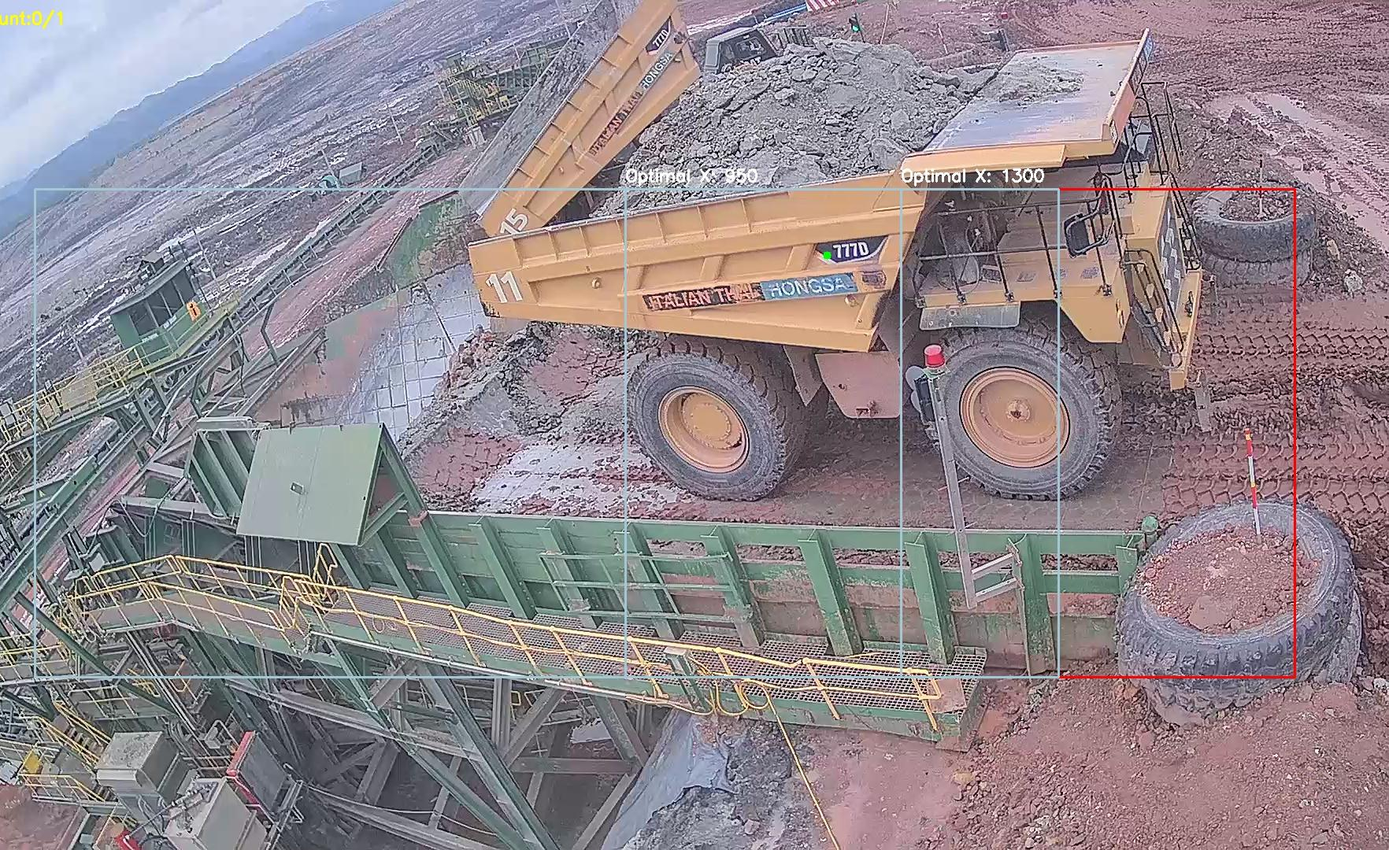company: (634, 273, 874, 315)
full_load: (624, 36, 965, 195)
mining_truck: (466, 19, 1225, 509)
tail_number: (485, 262, 530, 313)
truck_size: (816, 225, 886, 268)
